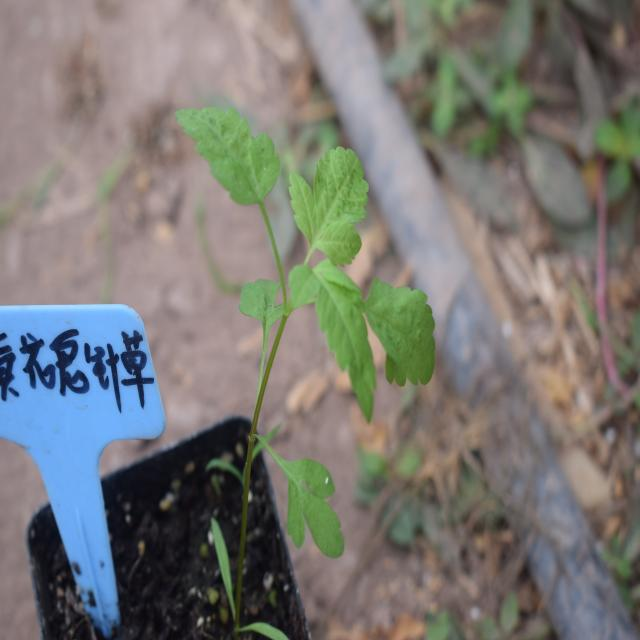Bidens pilosa: (167, 77, 431, 566)
